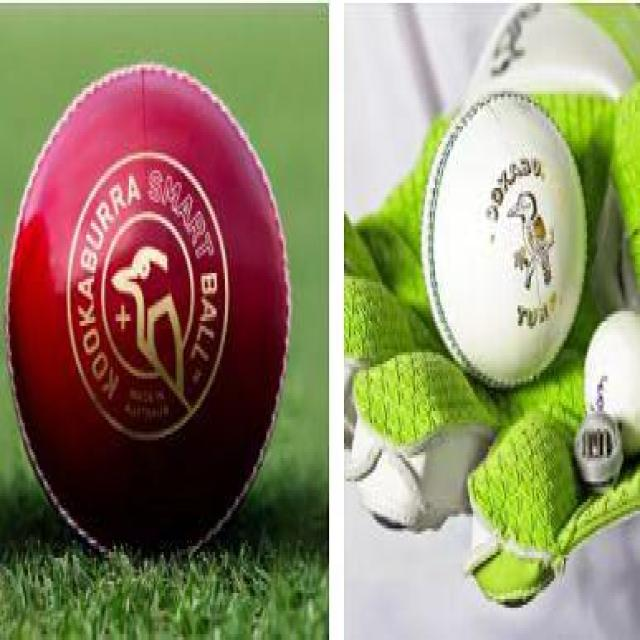ball: (420, 87, 594, 392)
